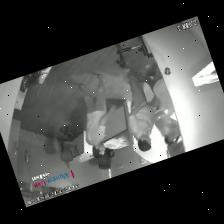person: (133, 73, 177, 144), (79, 74, 116, 157), (124, 68, 155, 151)
